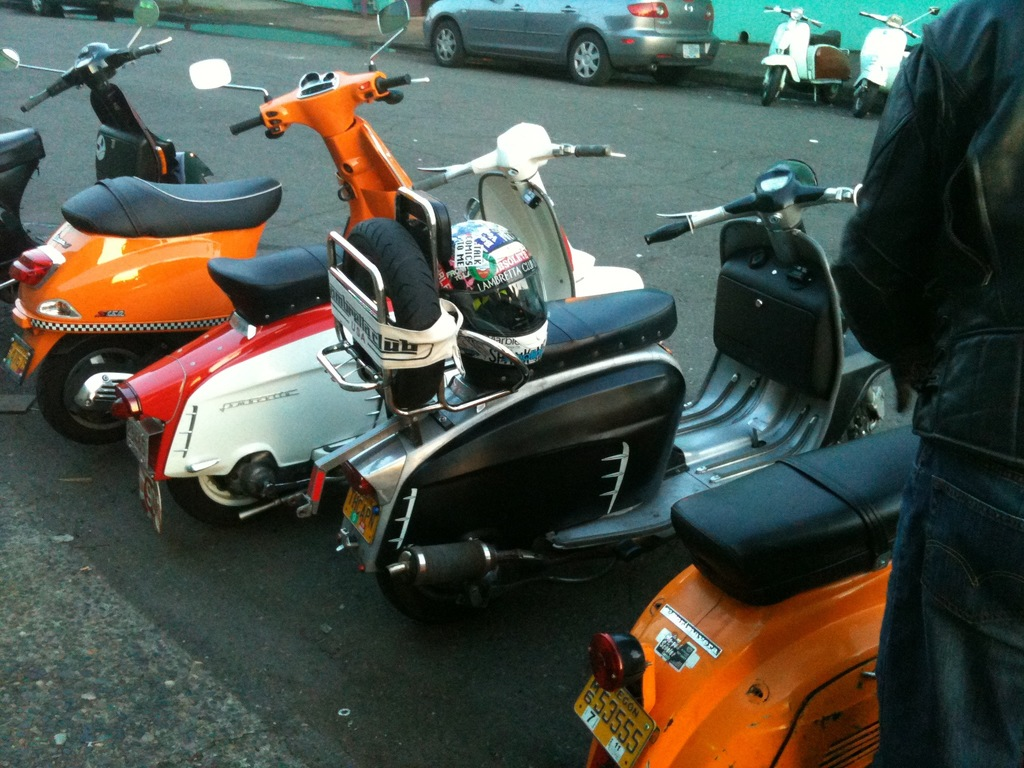Car: (420, 0, 724, 81)
